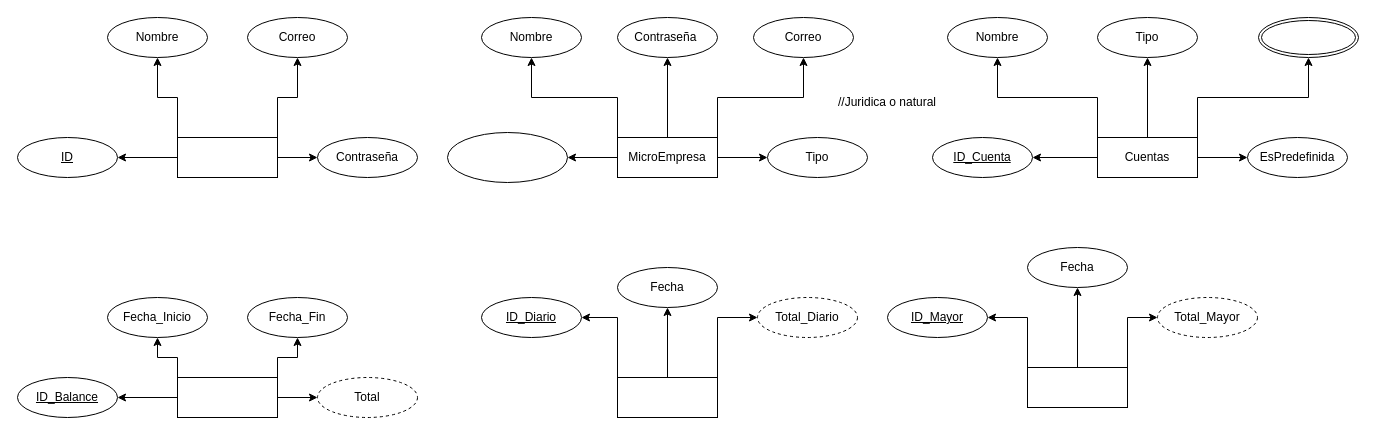
Some shapes in this 1376 by 435 pixel diagram are drawn without their labels. Each missing label, with the centre of its shape:
"BalanceGeneral" goes at pixel 227 397.
"ID_MicroEmpresa" goes at pixel 507 157.
"LibroDiario" goes at pixel 667 397.
"LibroMayor" goes at pixel 1077 387.
"Monto" goes at pixel 1308 37.
"Usuario" goes at pixel 227 157.
